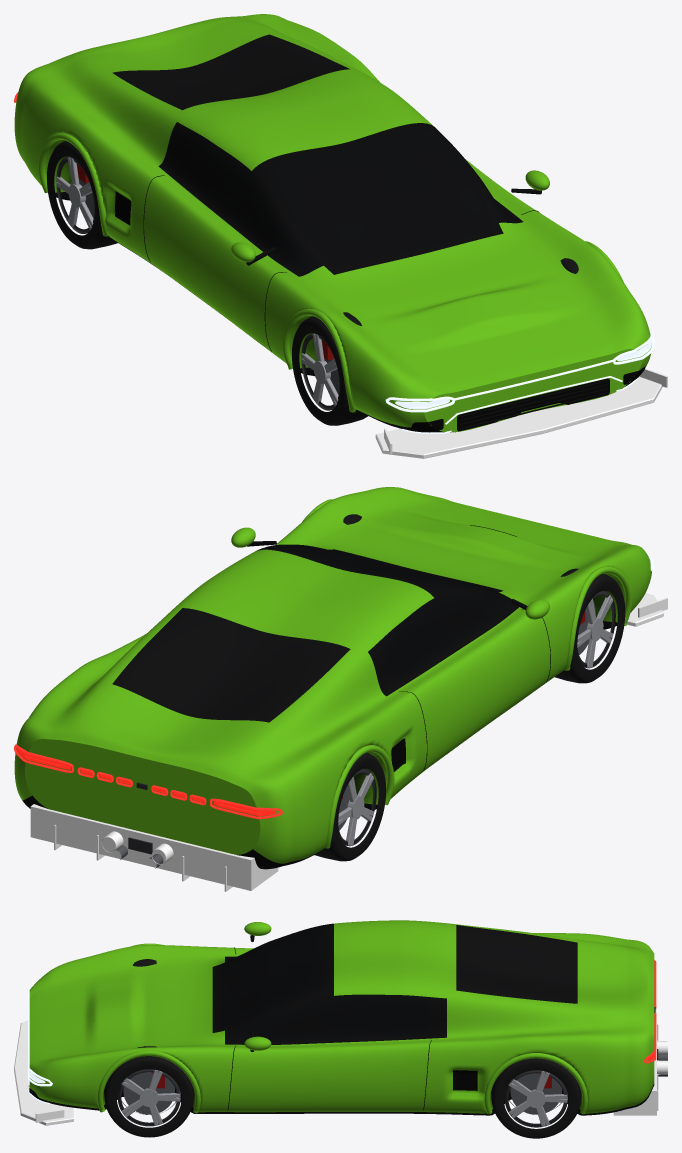
File: car.glb
3 views of the same model, one above another, from view 1: azimuth 30°, elevation 25°; view 2: azimuth 150°, elevation 25°; view 3: azimuth 270°, elevation 25° (orthographic). The views are drawn at different scales.
Visible parts, largest first — view 1: body, carbon_1, paint_2, wheel_FR_tyre, wheel_RR_tyre, opening_1, paint_6, paint_8, wheel_RR_rim, wheel_FR_rim; view 2: body, paint_1, carbon_4, wheel_FR_tyre, wheel_RR_tyre, wheel_FR_rim, wheel_RR_rim, paint_8, paint_6; view 3: body, wheel_FL_tyre, wheel_RL_tyre, carbon_1, wheel_FL_rim, wheel_RL_rim, paint_5, paint_7, wheel_FL_brake_disc, wheel_RL_brake_disc, carbon_4, wheel_RL_barrel (+1 smaller).
Part boxes in pixels (<box>): body: <box>14,14,651,432</box>; carbon_1: <box>375,376,662,458</box>; paint_2: <box>424,349,642,432</box>; wheel_FR_tyre: <box>292,312,367,425</box>; wheel_RR_tyre: <box>47,140,117,249</box>; opening_1: <box>457,378,609,431</box>; paint_6: <box>282,308,356,412</box>; paint_8: <box>38,133,108,236</box>; wheel_RR_rim: <box>56,157,93,229</box>; wheel_FR_rim: <box>301,333,338,406</box>; body: <box>14,487,651,869</box>; paint_1: <box>25,739,260,854</box>; carbon_4: <box>30,804,278,890</box>; wheel_FR_tyre: <box>555,568,625,683</box>; wheel_RR_tyre: <box>314,752,385,861</box>; wheel_FR_rim: <box>577,595,613,667</box>; wheel_RR_rim: <box>338,773,374,845</box>; paint_8: <box>324,745,394,848</box>; paint_6: <box>564,566,632,670</box>; body: <box>29,920,654,1115</box>; wheel_FL_tyre: <box>104,1046,194,1137</box>; wheel_RL_tyre: <box>491,1058,581,1138</box>; carbon_1: <box>14,1020,73,1125</box>; wheel_FL_rim: <box>121,1070,180,1125</box>; wheel_RL_rim: <box>508,1071,567,1126</box>; paint_5: <box>97,1050,200,1113</box>; paint_7: <box>484,1053,587,1114</box>; wheel_FL_brake_disc: <box>123,1072,174,1114</box>; wheel_RL_brake_disc: <box>510,1073,561,1114</box>; carbon_4: <box>613,1005,656,1115</box>; wheel_RL_barrel: <box>504,1070,567,1127</box>.
Size of the model in its own units: 2.12 by 1.09 by 4.82.
